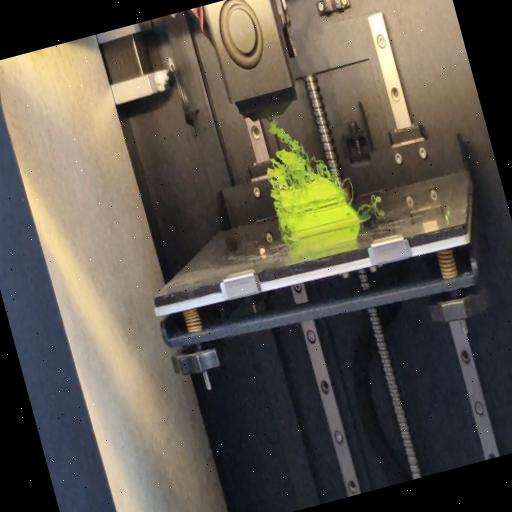spaghetti: (254, 109, 330, 191), (356, 190, 386, 212), (340, 176, 356, 204), (280, 230, 295, 248)
